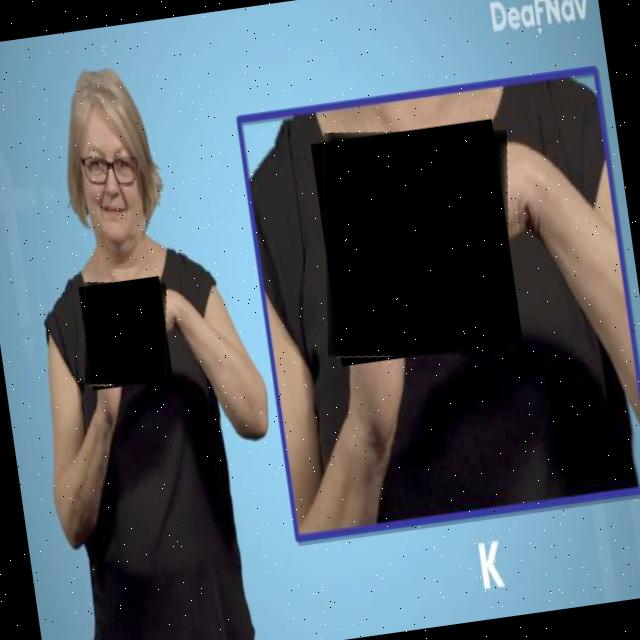K: (305, 115, 532, 375), (76, 276, 178, 396)
